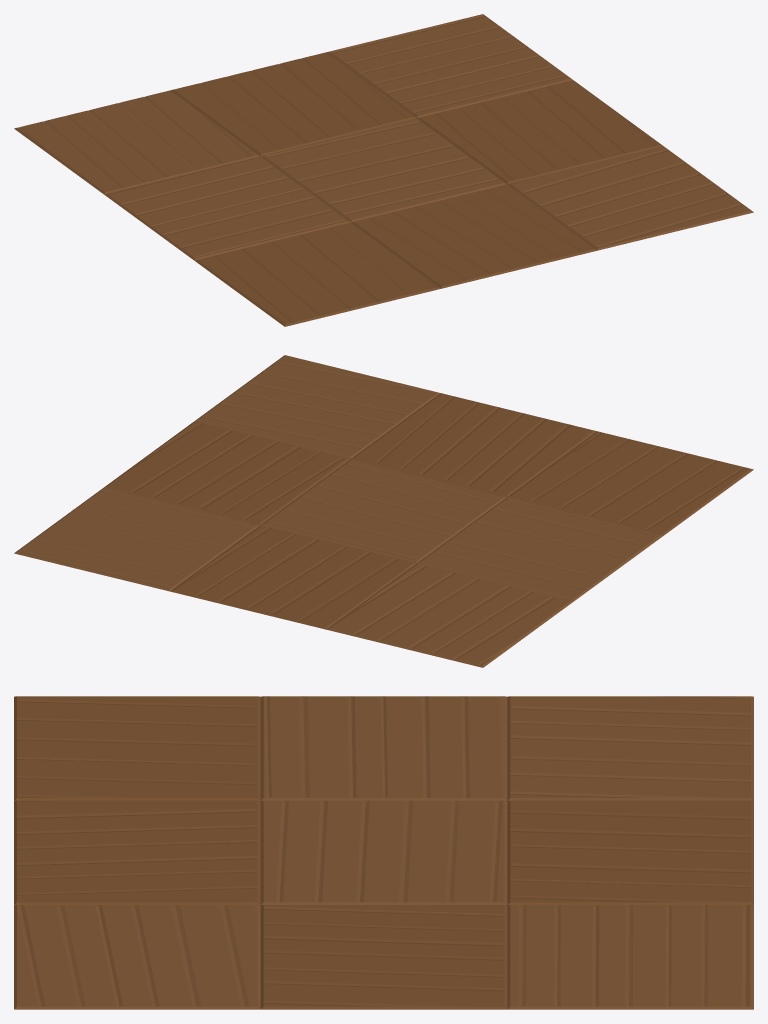
The model's file is Wood_Floor_Module_03_02.glb.
The picture shows the model from 3 angles, top to bottom: view 1: azimuth 30°, elevation 25°; view 2: azimuth 150°, elevation 25°; view 3: azimuth 270°, elevation 25°; orthographic projection. The views are drawn at different scales.
Parts seen in each view (by area): view 1: Wood_Floor_Module_03_02; view 2: Wood_Floor_Module_03_02; view 3: Wood_Floor_Module_03_02.
Boxes of the visible parts, x1,y1,x2,y2 form: Wood_Floor_Module_03_02: [14, 14, 753, 326]; Wood_Floor_Module_03_02: [14, 355, 753, 667]; Wood_Floor_Module_03_02: [14, 696, 753, 1009].
Bounding box in the file's own units: 4.74 × 0.012 × 4.74.
